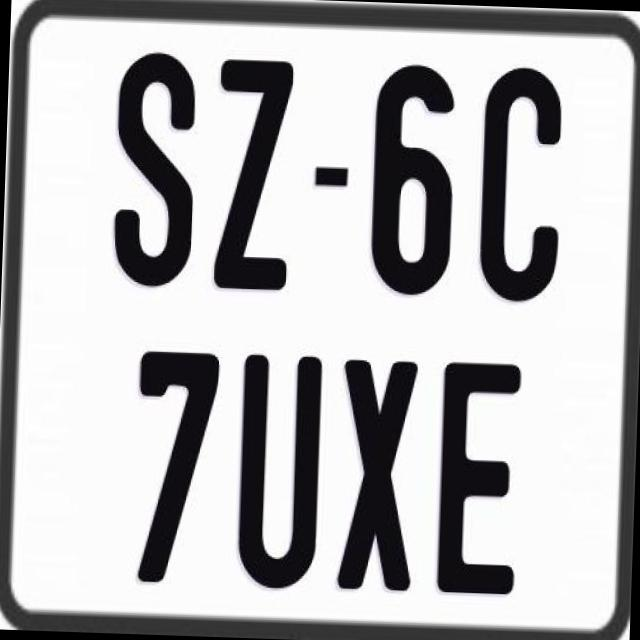6: (365, 59, 453, 296)
7: (129, 350, 219, 587)
C: (476, 64, 570, 308)
E: (436, 362, 528, 600)
S: (111, 52, 206, 295)
U: (232, 350, 322, 596)
X: (336, 354, 419, 586)
Z: (212, 54, 298, 290)
